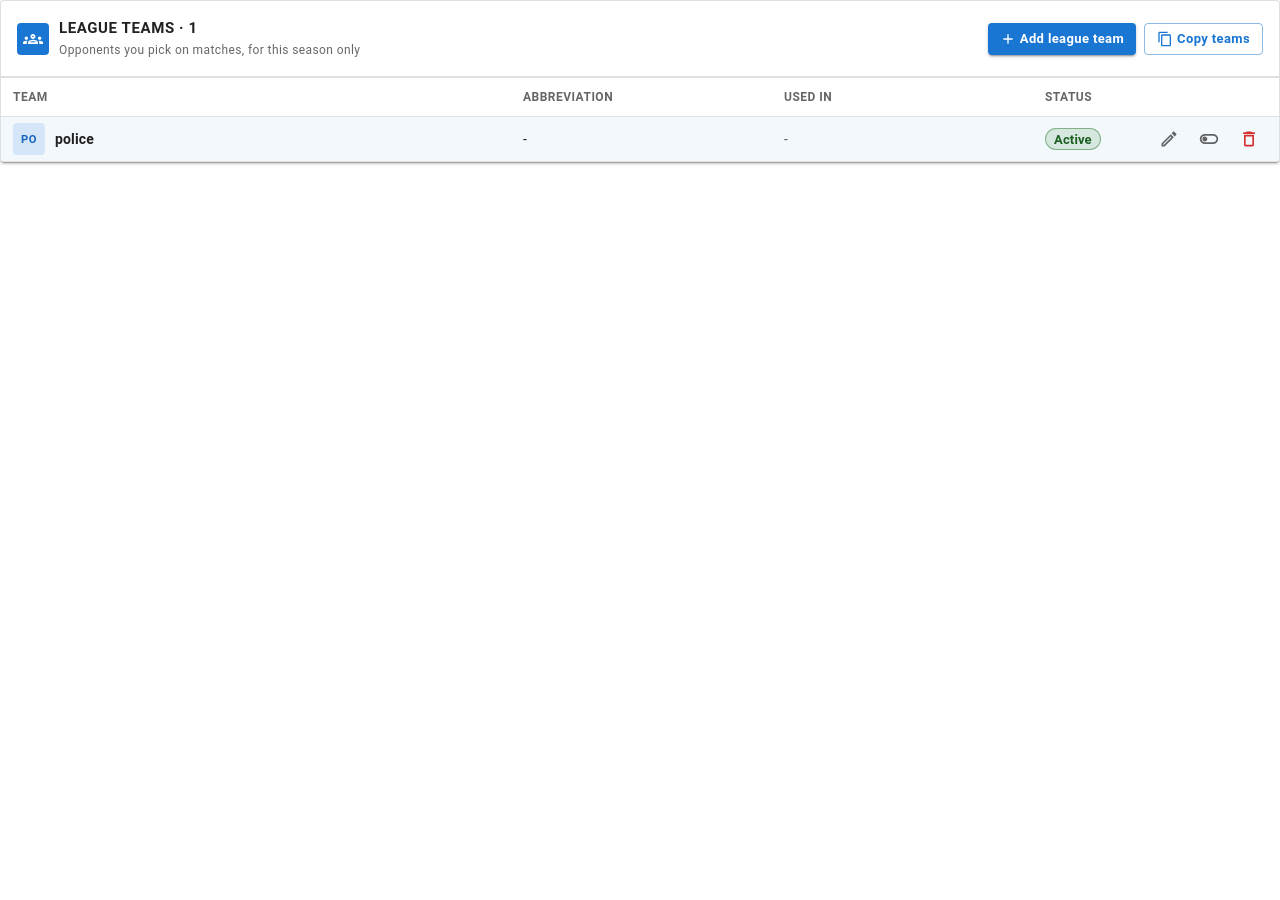
Test: LeagueTeamsSection › copy dialog › defaults to the most recent other season, ticks all, disables duplicates and sends nothing until confirmed
Click the button with aria-label "Copy teams from another league or season" at (1204, 39), box [1144,23,1263,55]
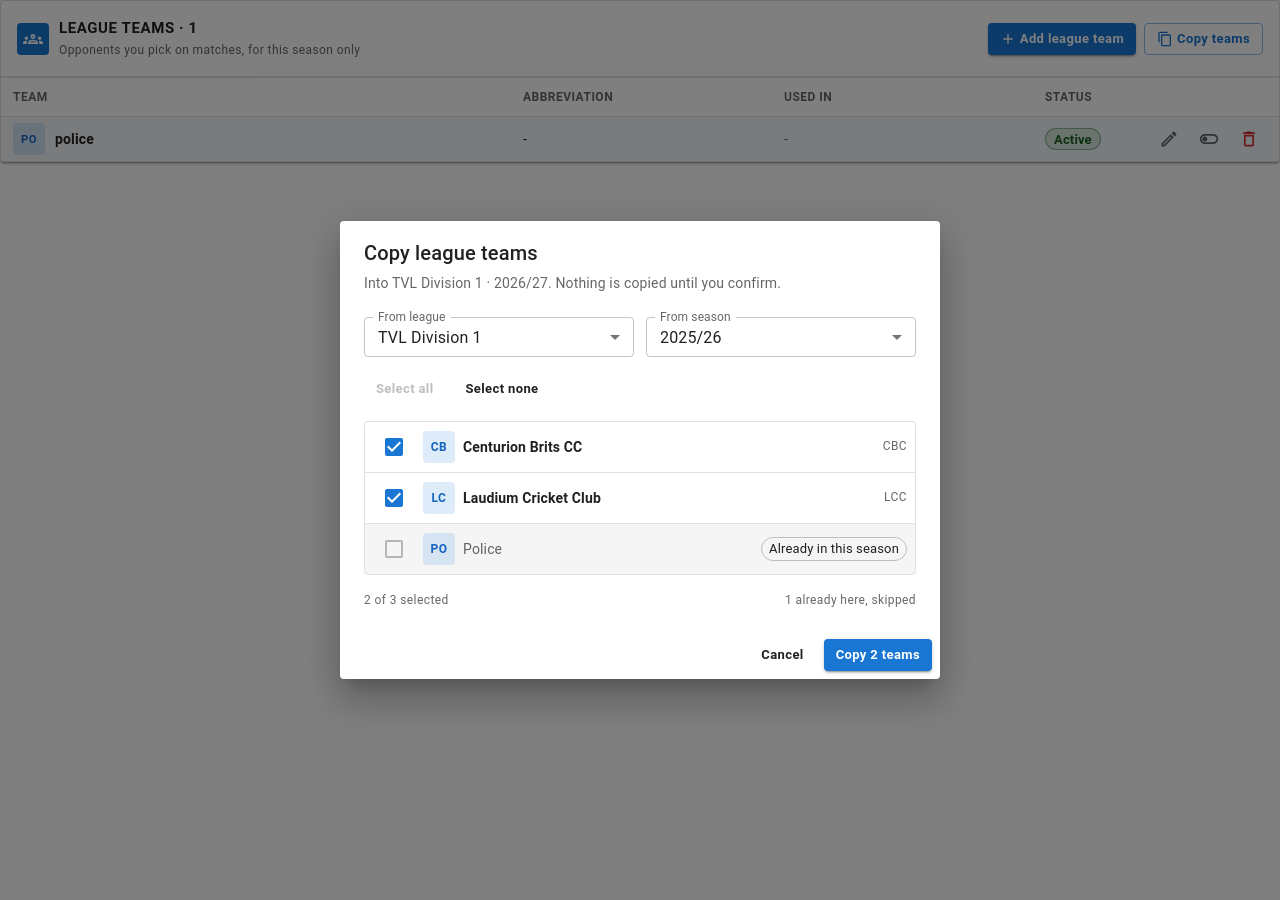
expect the checkbox named "Centurion Brits CC" is checked: met, box [382,435,406,459]
expect the checkbox named "Laudium Cricket Club" is checked: met, box [382,486,406,510]
expect the checkbox named "Police" is disabled: met, box [382,537,406,561]
